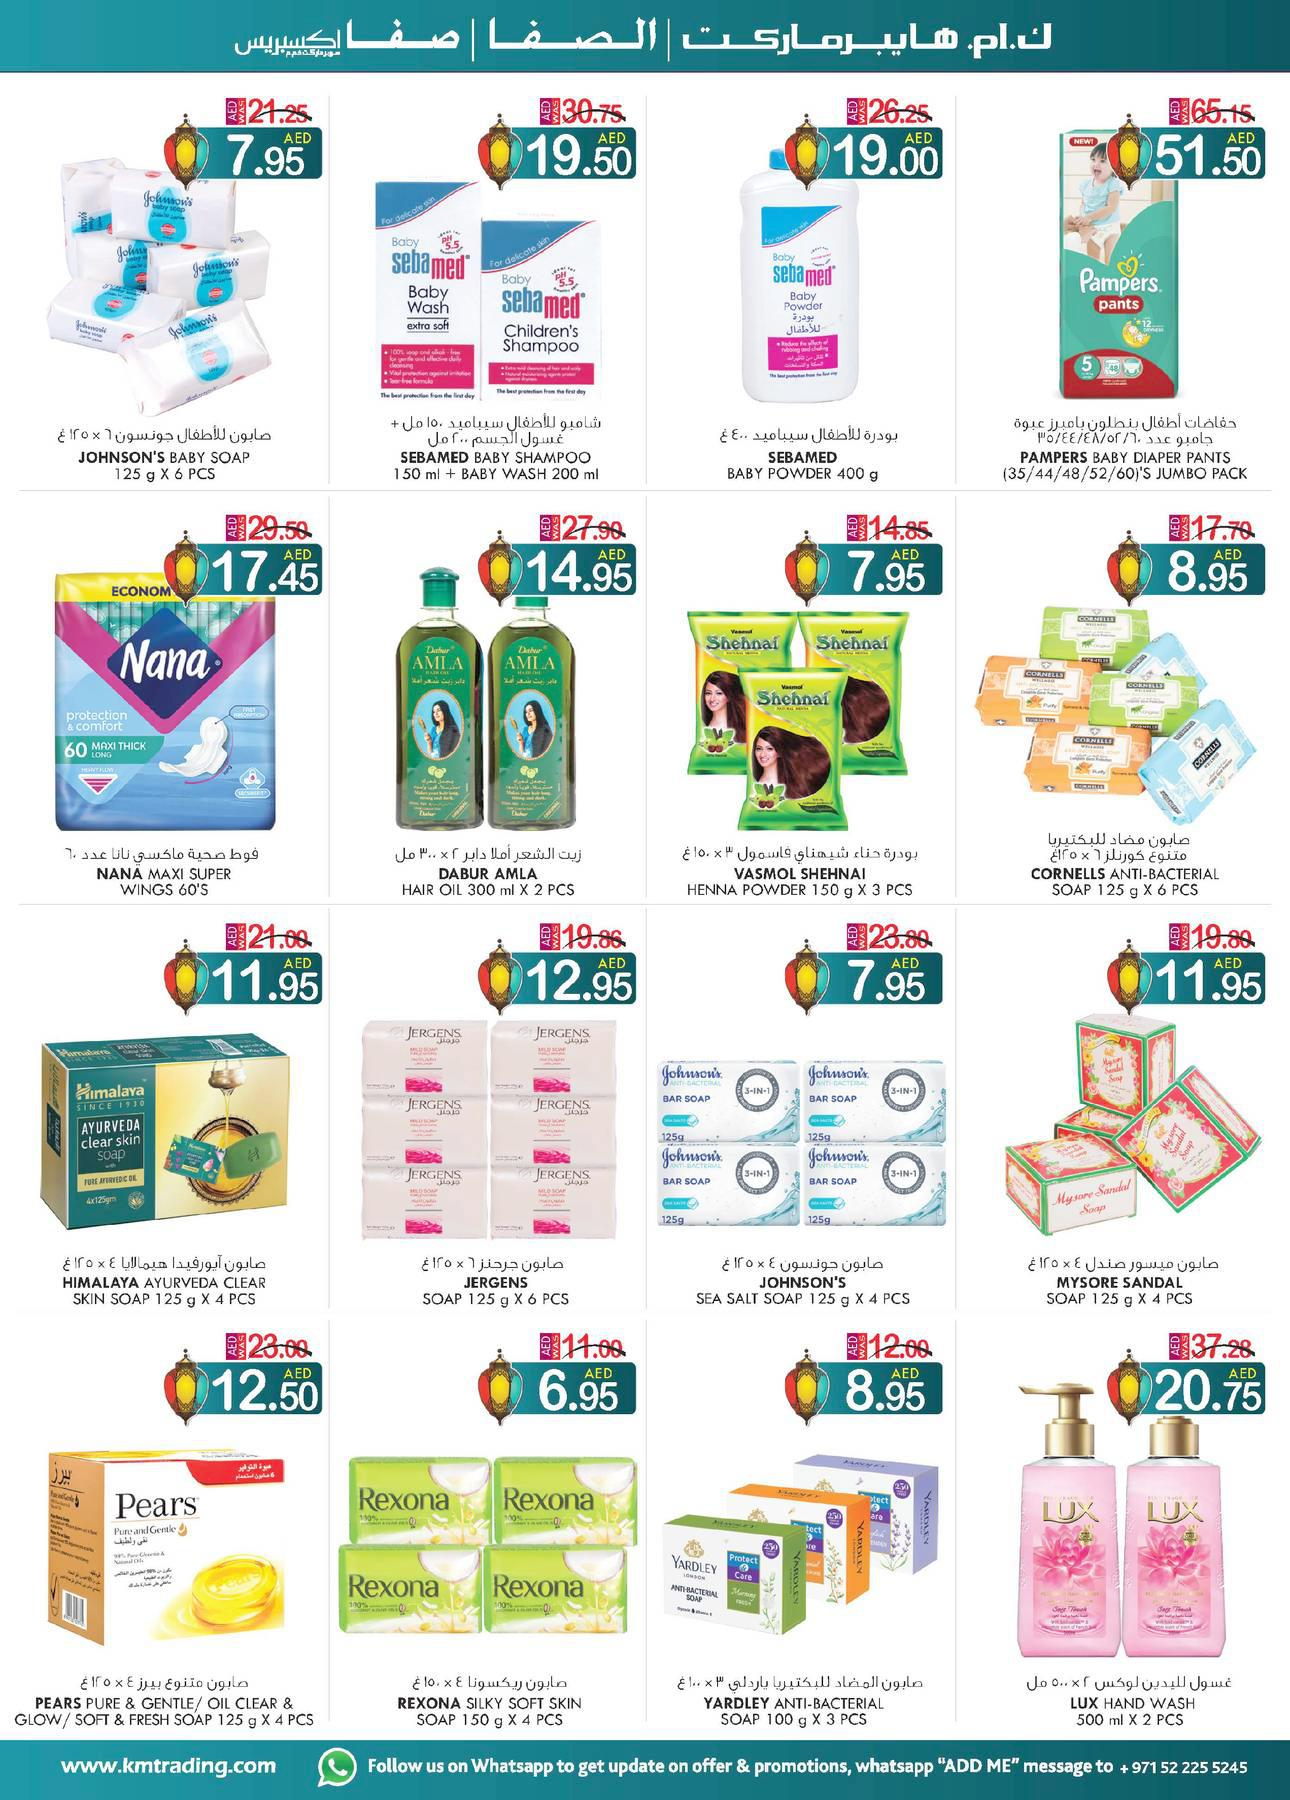text: (8, 1665, 322, 1734), (997, 409, 1255, 487), (665, 1663, 928, 1734), (383, 409, 611, 488), (1016, 823, 1231, 904), (672, 839, 931, 906), (49, 420, 276, 493), (1018, 1665, 1244, 1736), (684, 1247, 924, 1314), (52, 1245, 279, 1314), (385, 1660, 592, 1737), (713, 419, 912, 493), (1019, 1245, 1229, 1314), (383, 839, 596, 904), (60, 840, 268, 901), (403, 1247, 584, 1314)
